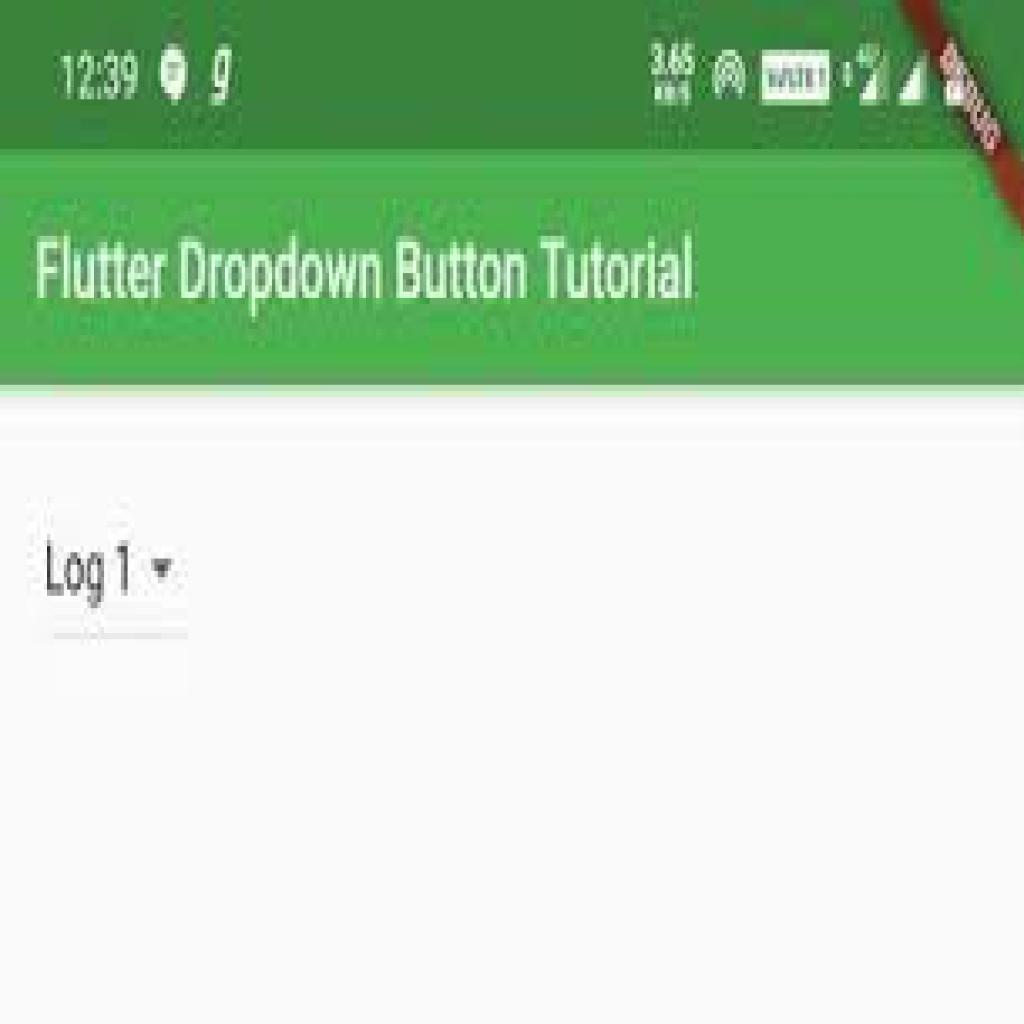dropdown: (29, 521, 205, 636)
